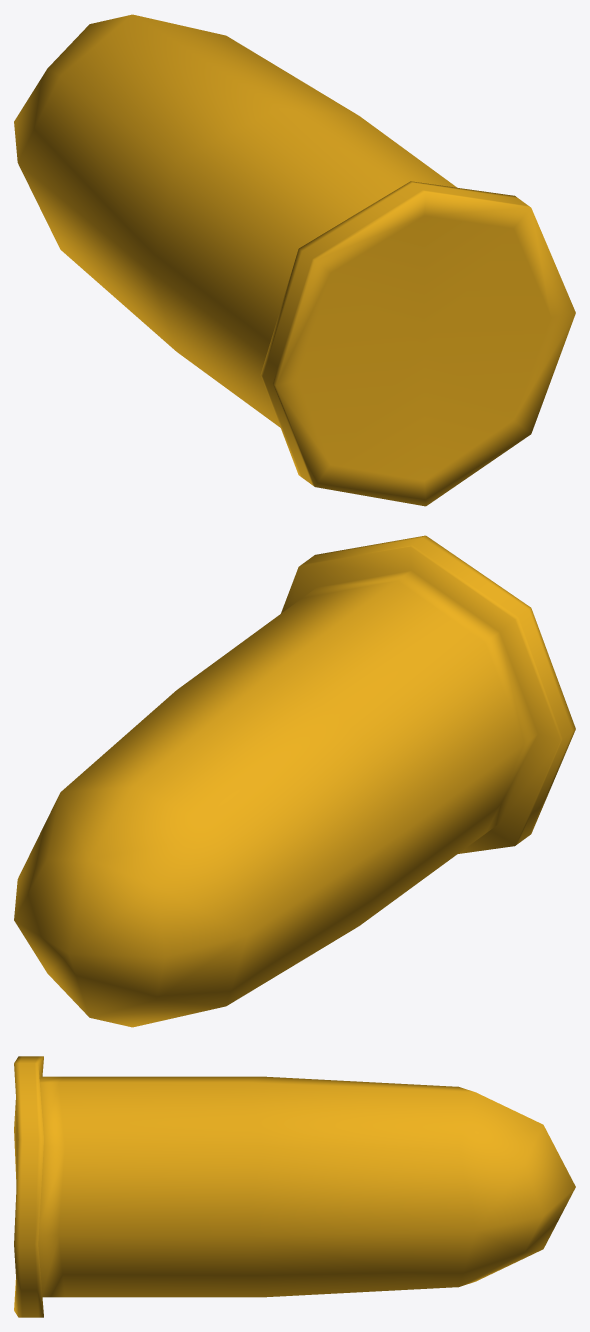
The model's file is Bullet.glb.
3 renders of one model, top to bottom at view 1: azimuth 30°, elevation 25°; view 2: azimuth 150°, elevation 25°; view 3: azimuth 270°, elevation 25°, orthographic. The views are drawn at different scales.
Visible parts, largest first — view 1: Cube; view 2: Cube; view 3: Cube.
Part boxes in pixels (bbox=[...]): Cube: bbox=[14, 14, 575, 506]; Cube: bbox=[14, 535, 575, 1027]; Cube: bbox=[14, 1056, 575, 1317].
Size of the model in its own units: 0.2733 by 0.2733 by 0.5634.
